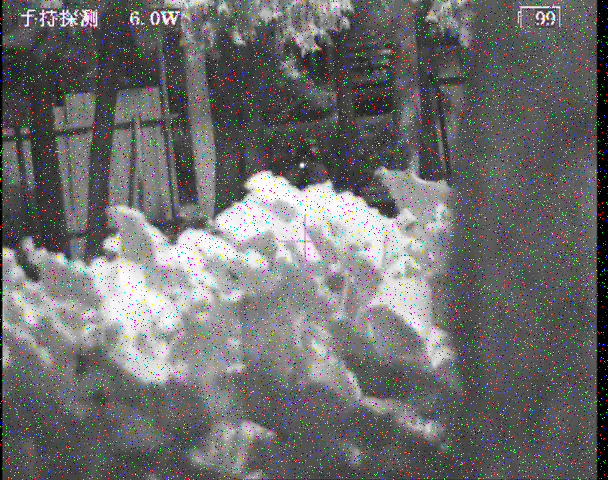my: (297, 160, 306, 170)
